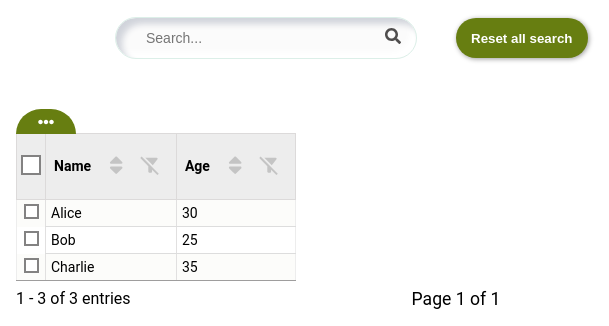
Test: Table › general search functionality works correctly
# Trigger the onChange event on the general search input with a search term
In the field with placeholder "Search...": (266, 38) [116,18,416,58], type "Alice"
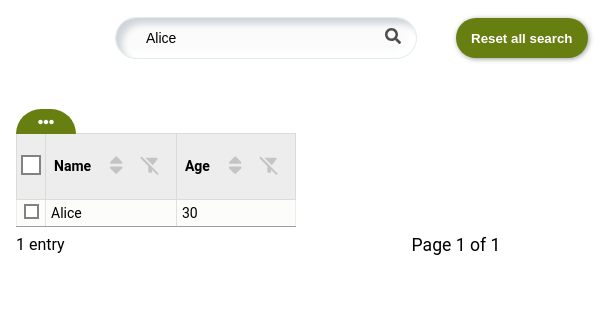
Check: the text "Bob" is gone
Check: the text "25" is gone
Check: the text "Charlie" is gone
